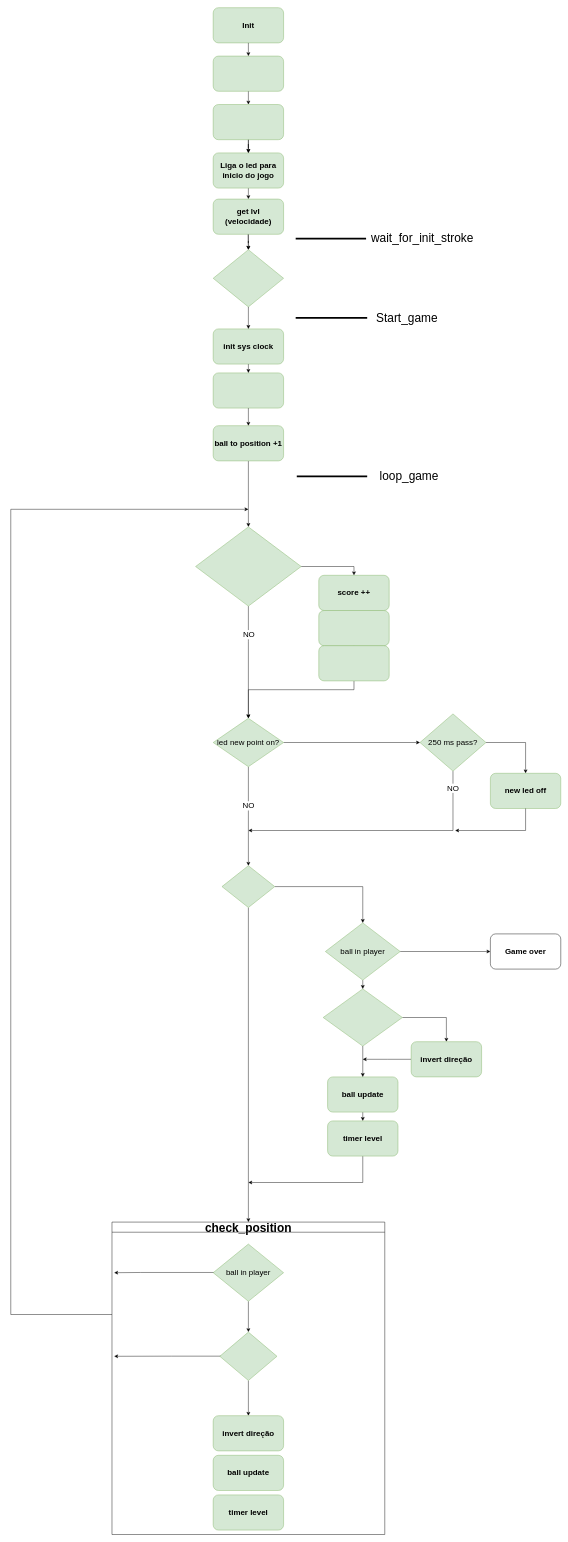
Image size: 568x1542. Some labels were removed from this diagram. The shapes that lost their labels are listed below. From the top down, each one's centre as x and y in pixels, then its label:
(x=248, y=73): bal position 0
(x=248, y=122): direção para a frente
(x=248, y=278): swtch_pressed
(x=248, y=390): init timer t level init timer t 1s
(x=248, y=566): Time 1s?
(x=353, y=628): flash
(x=353, y=663): init timer 1s
(x=248, y=886): Time level
(x=362, y=1017): ball in wall
(x=248, y=1356): raquete?
